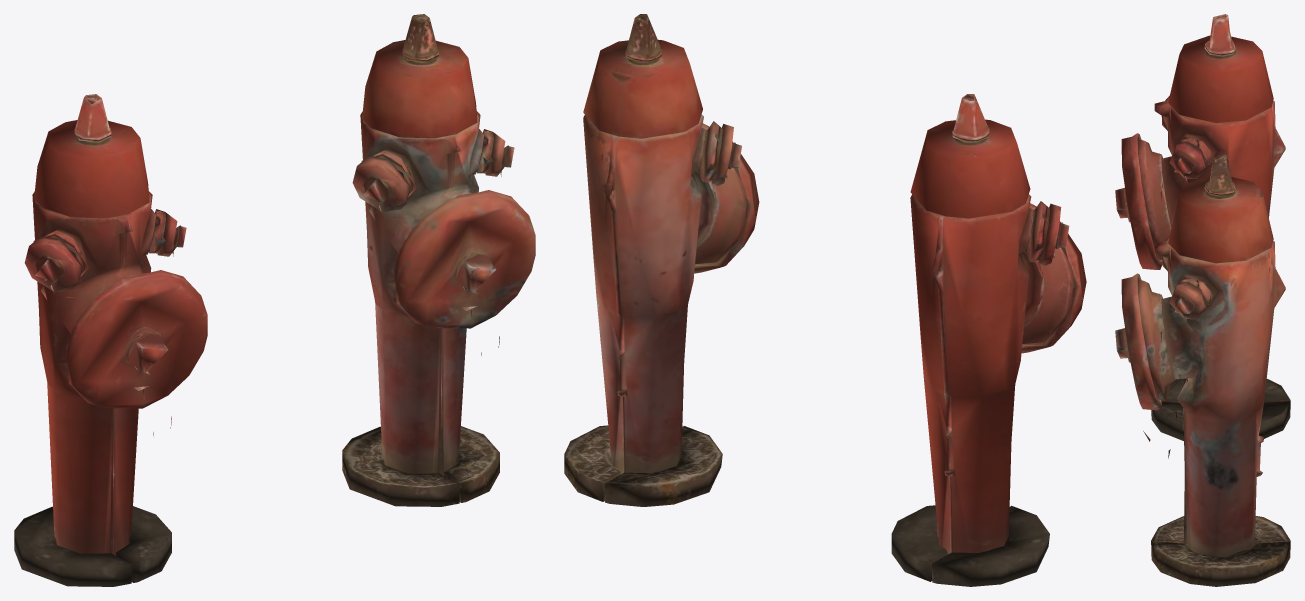
File: fire_hydrant.glb
The picture shows the model from 3 angles, left to right: view 1: azimuth 30°, elevation 25°; view 2: azimuth 150°, elevation 25°; view 3: azimuth 270°, elevation 25°; orthographic projection. The views are drawn at different scales.
Visible parts, largest first — view 1: fire_hydrant, fire_hydrant_aged; view 2: fire_hydrant, fire_hydrant_aged; view 3: fire_hydrant_aged, fire_hydrant.
Boxes of the visible parts, x1=… form: fire_hydrant: x1=14, y1=94, x2=207, y2=586; fire_hydrant_aged: x1=342, y1=14, x2=535, y2=506; fire_hydrant: x1=891, y1=94, x2=1086, y2=586; fire_hydrant_aged: x1=564, y1=14, x2=759, y2=506; fire_hydrant_aged: x1=1115, y1=154, x2=1290, y2=586; fire_hydrant: x1=1115, y1=14, x2=1290, y2=440.
Size of the model in its own units: 0.8728 by 0.7992 by 0.3173.
2 materials, 2 textured.
